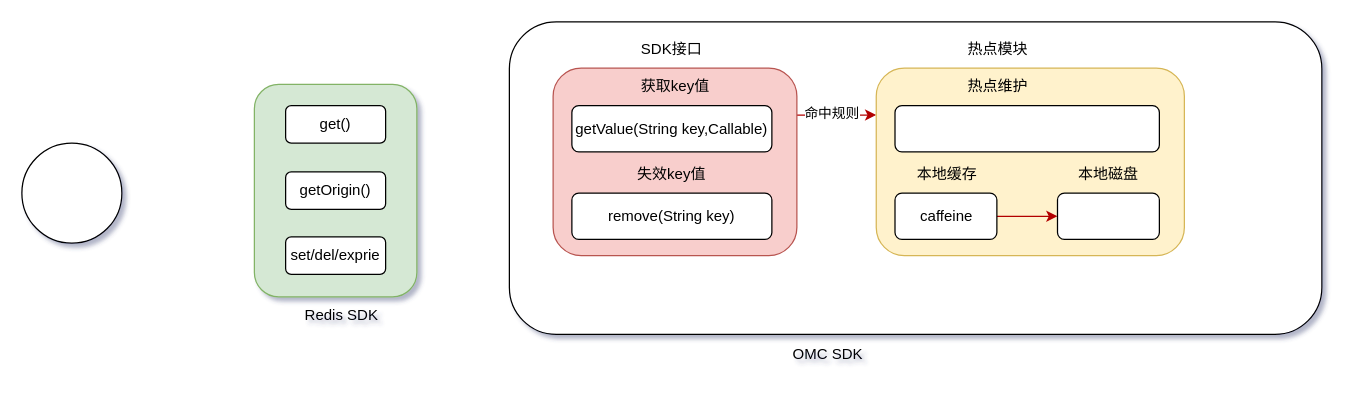
Image size: 1351x403. Some labels were removed from this diagram. The centre of each missing label's shape, as x and y in pixels:
"key列表&过期时间" goes at [1026,128].
"rocksdb" goes at [1107,215].
"业务Java应用" goes at [71,192].
